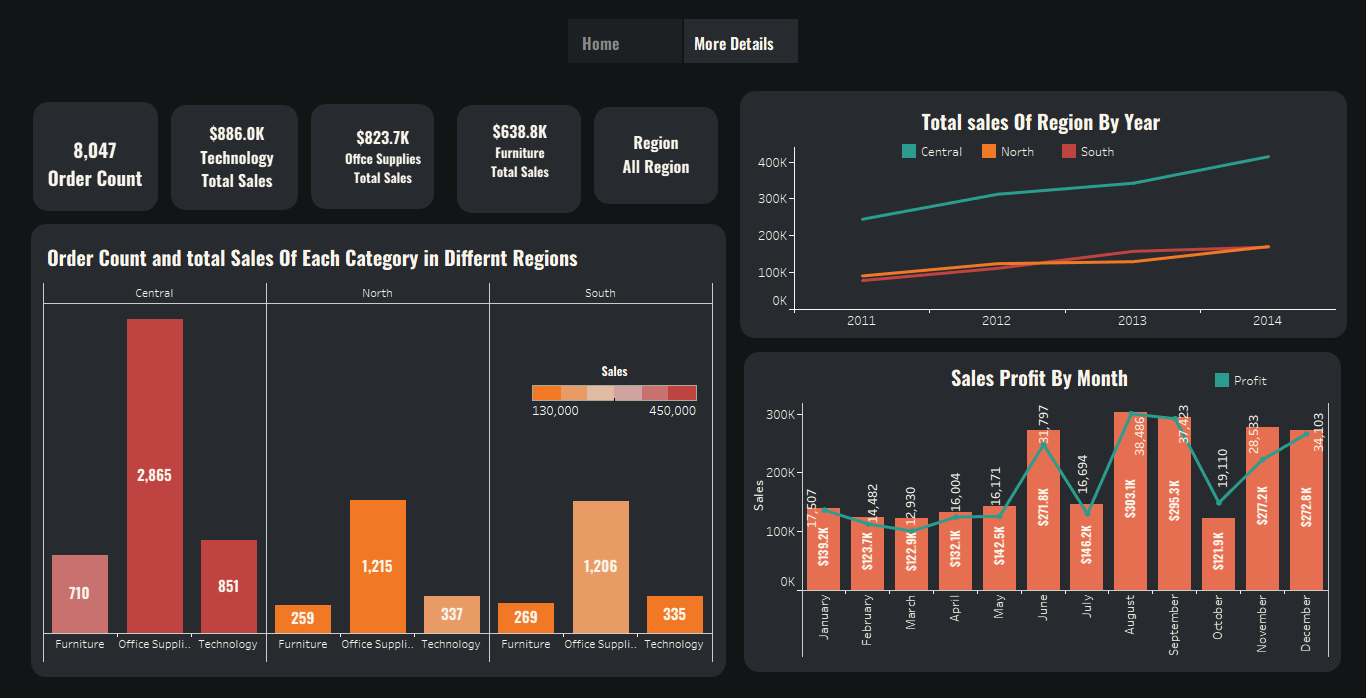

The page's visual inventory and layout, read from the dashboard file:
{"tool":"tableau","page":{"name":"Dashboard 4","canvas":[1000,1000],"units":"permille","ordinal":3},"visuals":[{"type":"worksheet","title":"Total sales Of Region By Year","mark":"Automatic","rows":["Sales"],"cols":["Order Date"],"box":[546.3,30.8,437.2,375]},{"type":"worksheet","title":"Furniture total sales","mark":"Automatic","box":[344.6,59.8,85.2,139.5]},{"type":"worksheet","title":"Technology totalSales","mark":"Automatic","box":[132.9,63.4,95.3,134.1]},{"type":"worksheet","title":"Offce Supplies total sales","mark":"Automatic","box":[241.1,68.8,89.8,141.3]},{"type":"worksheet","title":"certainRegion","mark":"Automatic","box":[444.6,77.9,89.8,119.6]},{"type":"worksheet","title":"order count","mark":"Automatic","box":[20.2,85.1,90.7,179.3]},{"type":"legend","title":"Total sales Of Region By Year","param":"[federated.099zjbj1m79hfn19igkxx1rdtmez].[none:Region:nk]","box":[659.7,96,303,54.4]},{"type":"worksheet","title":"Order Count and total Sales Of Each Category in Differnt Regions","mark":"Automatic","rows":["Order ID"],"cols":["Region","Category (SalesTargets)"],"box":[19.1,240.9,510,730.1]},{"type":"worksheet","title":"Sales Profit By Month","mark":"Line","rows":["Sales","Profit"],"cols":["Order Date"],"box":[545.5,443.8,438.1,514.5]},{"type":"legend","title":"Order Count and total Sales Of Each Category in Differnt Regions","param":"[federated.099zjbj1m79hfn19igkxx1rdtmez].[sum:Sales:qk]","box":[385,460.1,128.3,137.7]}]}

Visuals, with their boxes on the dashboard's canvas, which has no fixed pixel size, in thousandths of its width and height (x1, y1, x2, y2). These are canvas units, not pixel positions in the 1366x698 screenshot, which may show the page scaled, cropped or inside an application window:
"Total sales Of Region By Year" worksheet: crop(546, 31, 984, 406)
"Furniture total sales" worksheet: crop(345, 60, 430, 199)
"Technology totalSales" worksheet: crop(133, 63, 228, 198)
"Offce Supplies total sales" worksheet: crop(241, 69, 331, 210)
"certainRegion" worksheet: crop(445, 78, 534, 198)
"order count" worksheet: crop(20, 85, 111, 264)
"Total sales Of Region By Year" legend: crop(660, 96, 963, 150)
"Order Count and total Sales Of Each Category in Differnt Regions" worksheet: crop(19, 241, 529, 971)
"Sales Profit By Month" worksheet (Line marks): crop(546, 444, 984, 958)
"Order Count and total Sales Of Each Category in Differnt Regions" legend: crop(385, 460, 513, 598)
